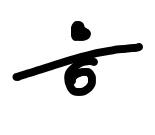div: (14, 20, 144, 97)
